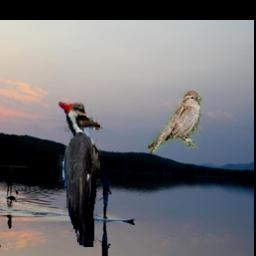Sparrow: (147, 92, 201, 154)
Woodpecker: (58, 102, 104, 247)
